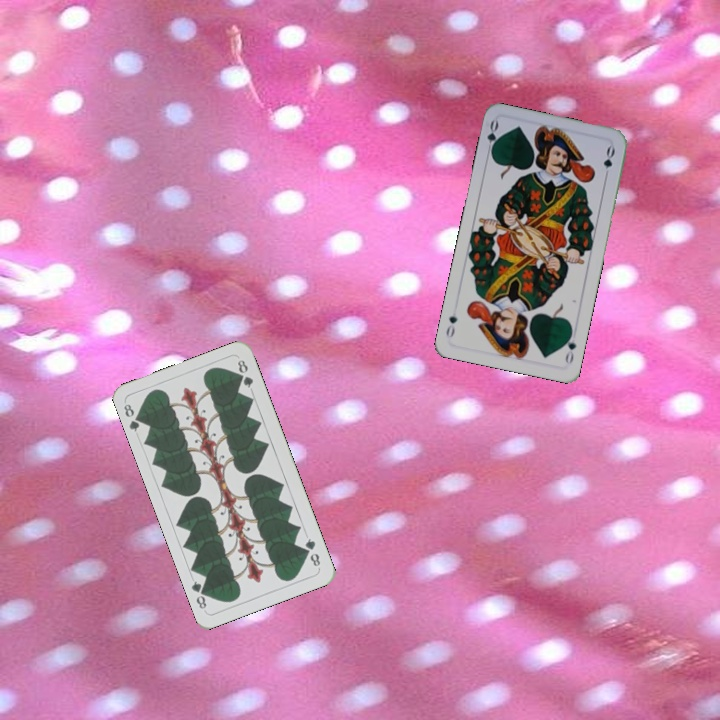G8: (119, 400, 146, 434), (301, 534, 323, 569)
GO: (483, 116, 502, 158), (561, 326, 579, 367)
